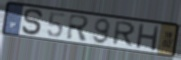5: (46, 11, 67, 39)
9: (91, 17, 112, 45)
H: (135, 22, 161, 52)
R: (110, 21, 137, 49), (65, 13, 91, 42)
S: (21, 8, 45, 37)
